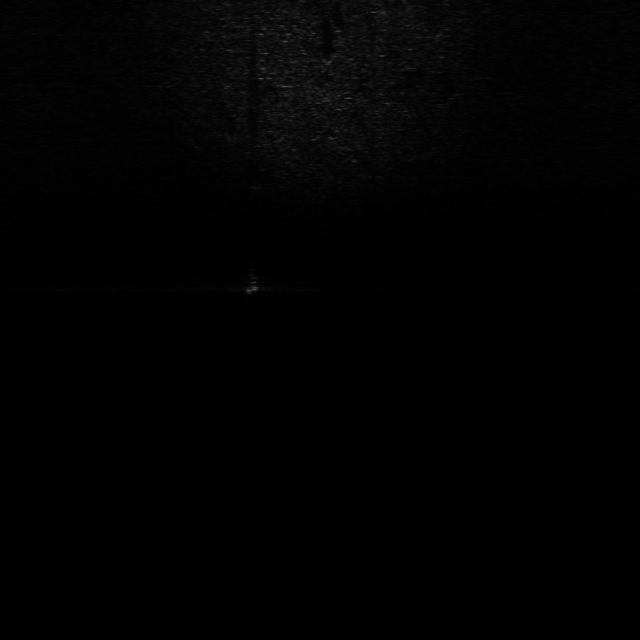human body: (236, 257, 266, 299)
